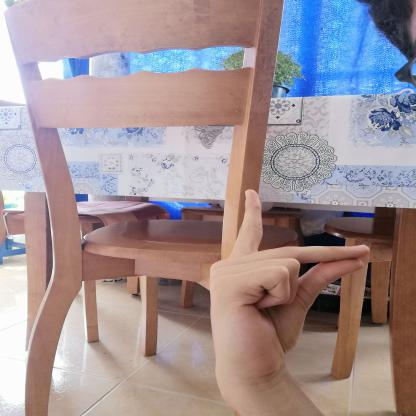TAA: (196, 180, 381, 388)
